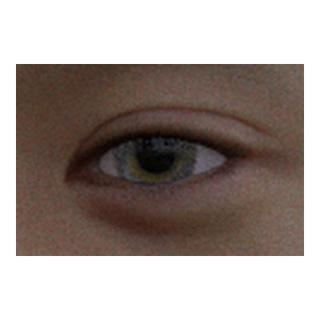pupil: (137, 136, 175, 173)
